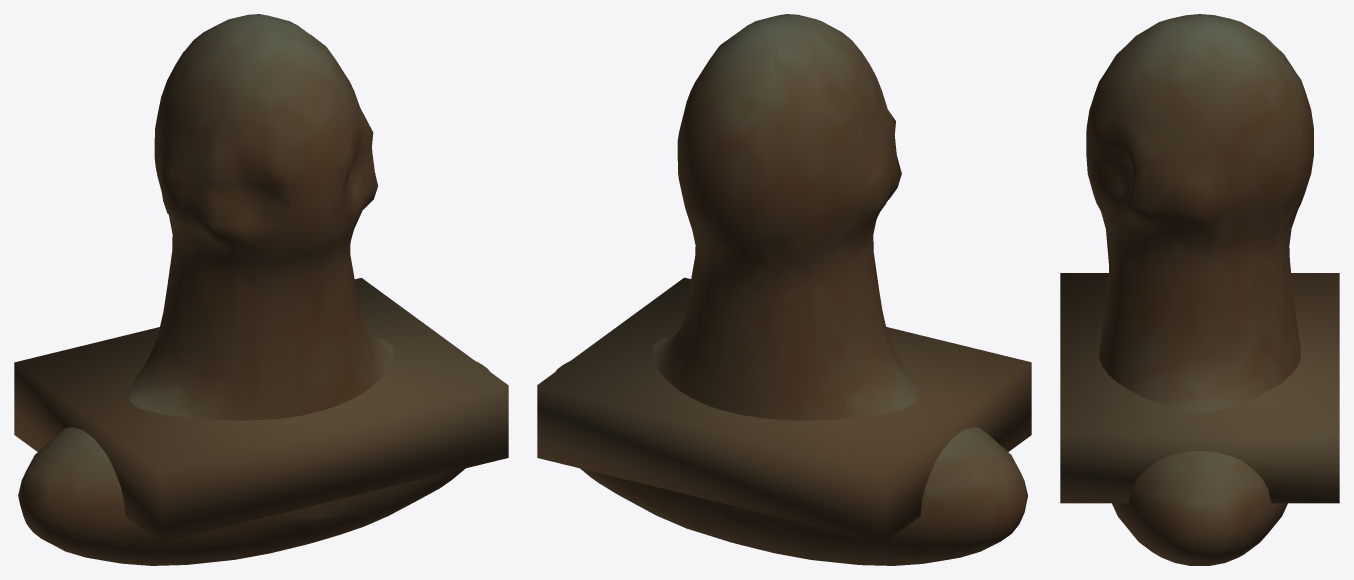
The model's file is bust2.glb.
3 views of the same model, side by side, from view 1: azimuth 30°, elevation 25°; view 2: azimuth 150°, elevation 25°; view 3: azimuth 270°, elevation 25° (orthographic). The views are drawn at different scales.
Visible parts, largest first — view 1: bv_m; view 2: bv_m; view 3: bv_m.
Boxes of the visible parts, x1,y1,x2,y2 form: bv_m: (14,14,508,565); bv_m: (537,14,1031,565); bv_m: (1060,14,1339,565).
Size of the model in its own units: 0.9593 by 1 by 0.5172.
